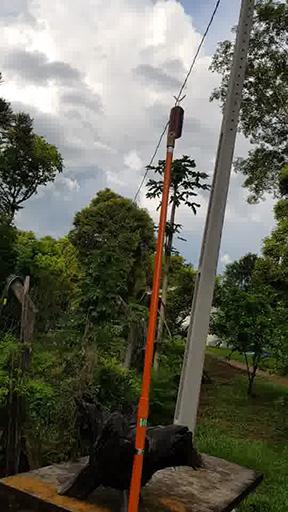Detector_Tensao_Contato: (166, 93, 186, 140)
Vara_Manobra: (126, 139, 176, 512)
